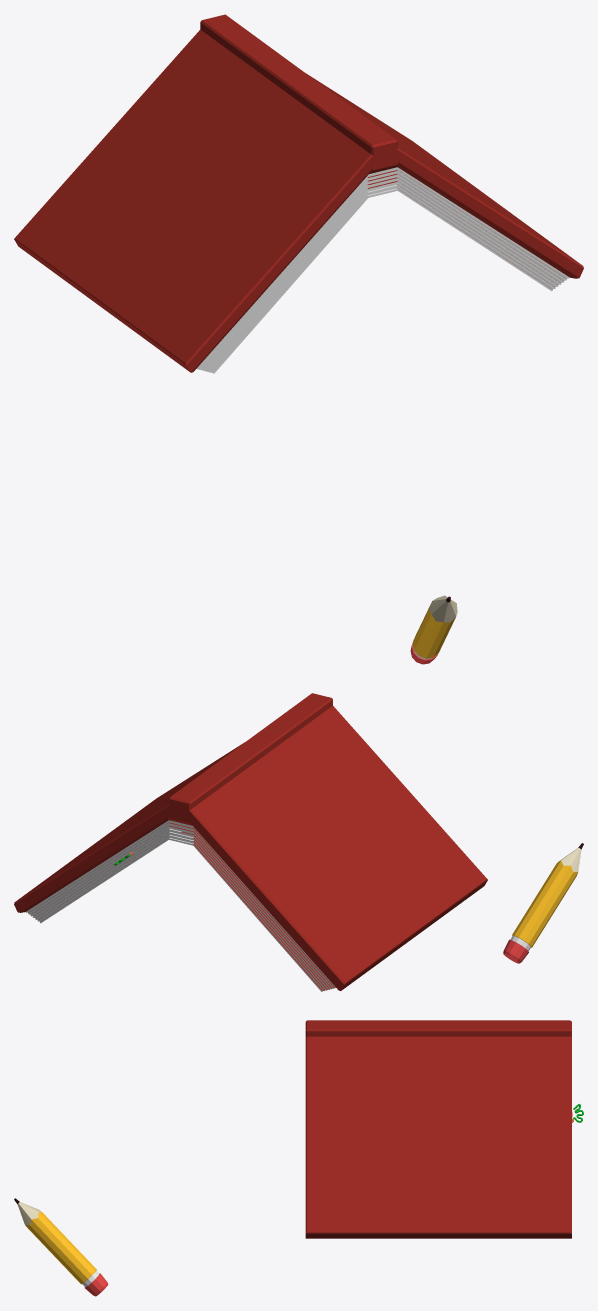
Rendered from cap6_book.fbx.
3 views of the same model, one above another, from view 1: azimuth 30°, elevation 25°; view 2: azimuth 150°, elevation 25°; view 3: azimuth 270°, elevation 25° (orthographic). The views are drawn at different scales.
Visible parts, largest first — view 1: 책, 연필; view 2: 책, 연필; view 3: 책, 연필.
Boxes of the visible parts, x1,y1,x2,y2 form: 책: (14, 14, 583, 373); 연필: (410, 595, 457, 664); 책: (14, 693, 487, 991); 연필: (503, 843, 583, 963); 책: (305, 1020, 571, 1238); 연필: (14, 1198, 108, 1296).
Bounding box in the file's own units: 80.38 × 76.82 × 129.
